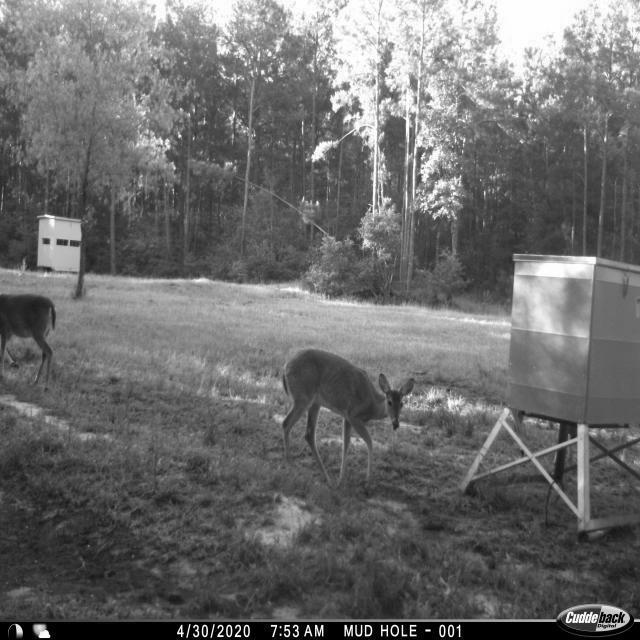Deer: (275, 346, 419, 494), (0, 291, 60, 394)
